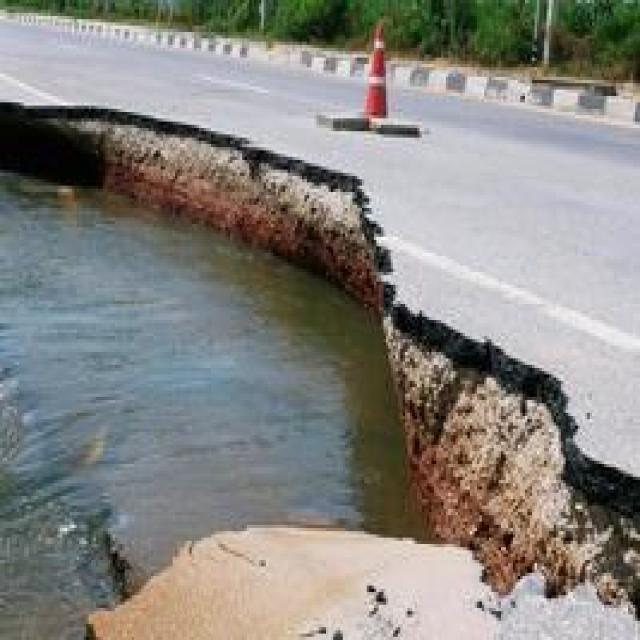road collapse: (0, 48, 638, 640)
